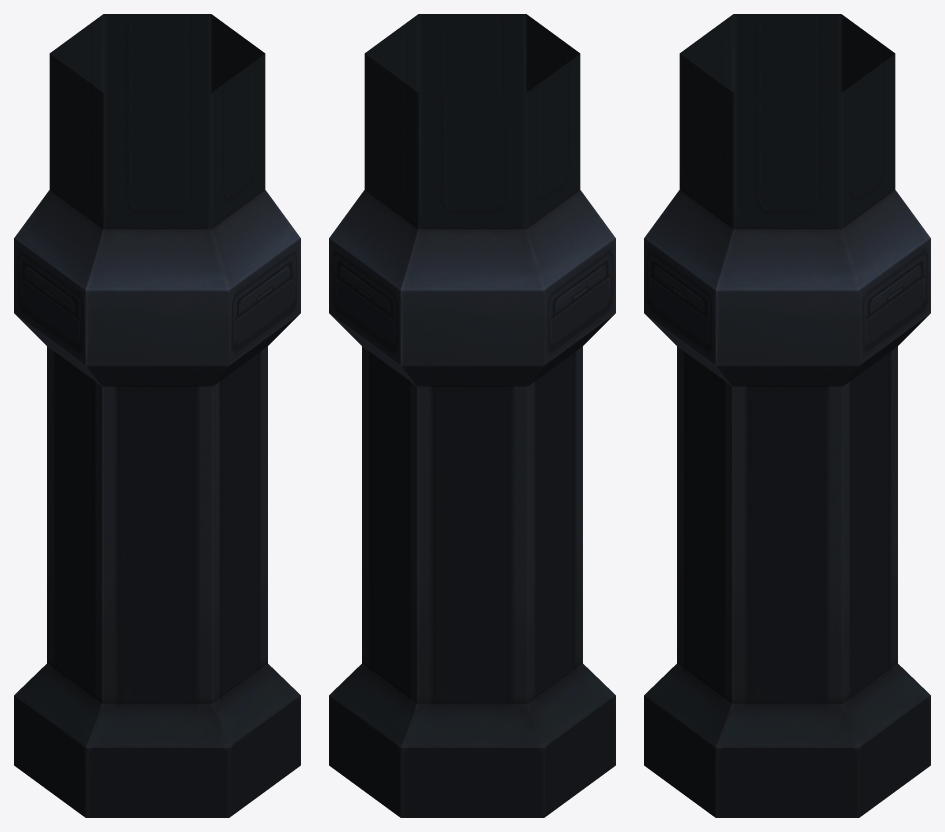
Rendered from ts_cjlz002.FBX.
3 renders of one model, left to right at view 1: azimuth 30°, elevation 25°; view 2: azimuth 150°, elevation 25°; view 3: azimuth 270°, elevation 25°, orthographic.
Parts seen in each view (by area): view 1: ts_cjlz002; view 2: ts_cjlz002; view 3: ts_cjlz002.
Boxes of the visible parts, x1,y1,x2,y2 form: ts_cjlz002: (14,14,300,817); ts_cjlz002: (329,14,615,817); ts_cjlz002: (644,14,930,817).
Bounding box in the file's own units: 1.5 × 4.73 × 1.73.
